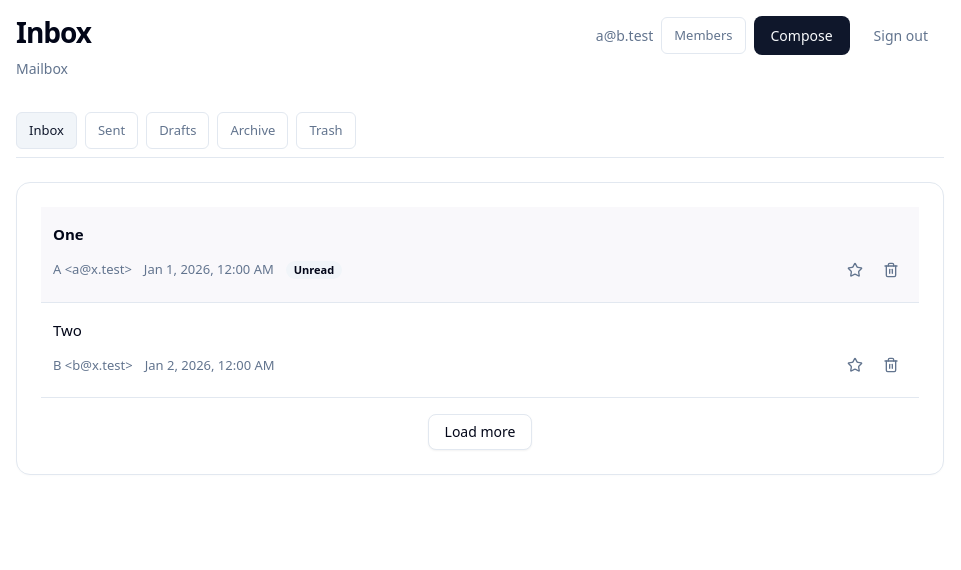
Test: InboxListPage › fix (g): an INVALID_CURSOR load-more keeps the rows and offers Start over in the banner, which resets the chain
This screenshot has width=961, height=570.
Click the button with test id "inbox-load-more": (480, 432) left=428, top=414, right=532, bottom=450
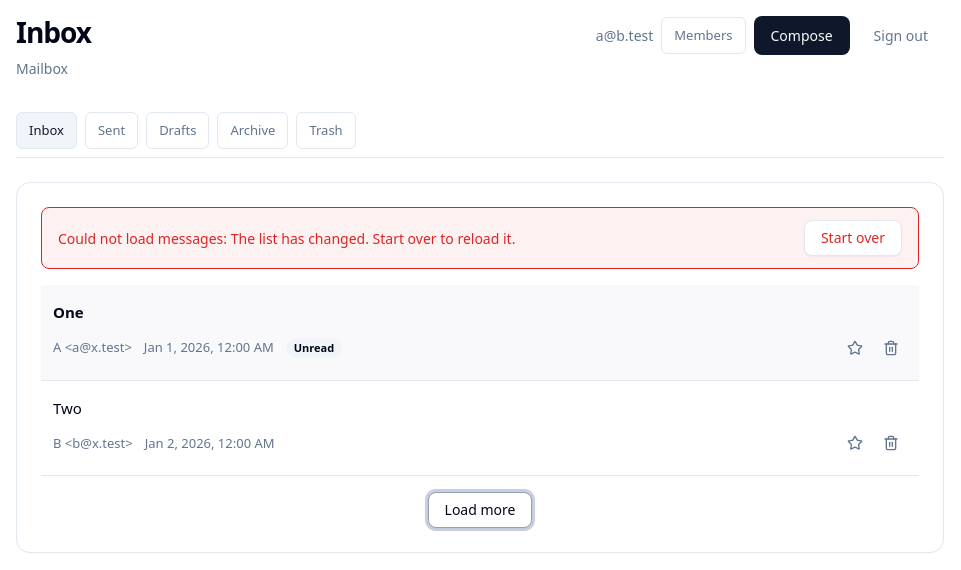
Check: the message is shown, box left=41, top=208, right=919, bottom=270
Check: the button with test id "inbox-start-over" is shown
Click the button with test id "inbox-start-over": (853, 238) left=804, top=220, right=902, bottom=256
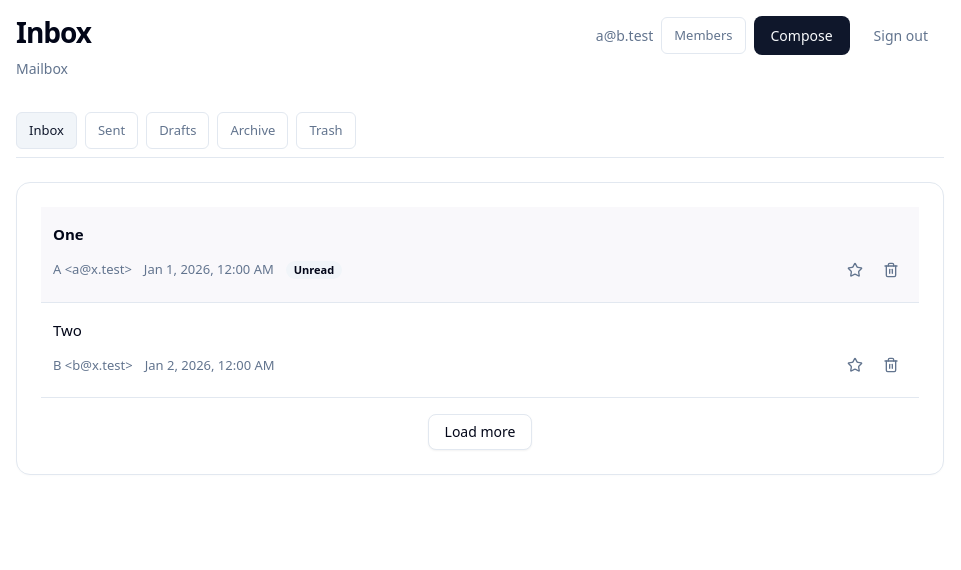
Check: the message with test id "inbox-error-banner" is gone
